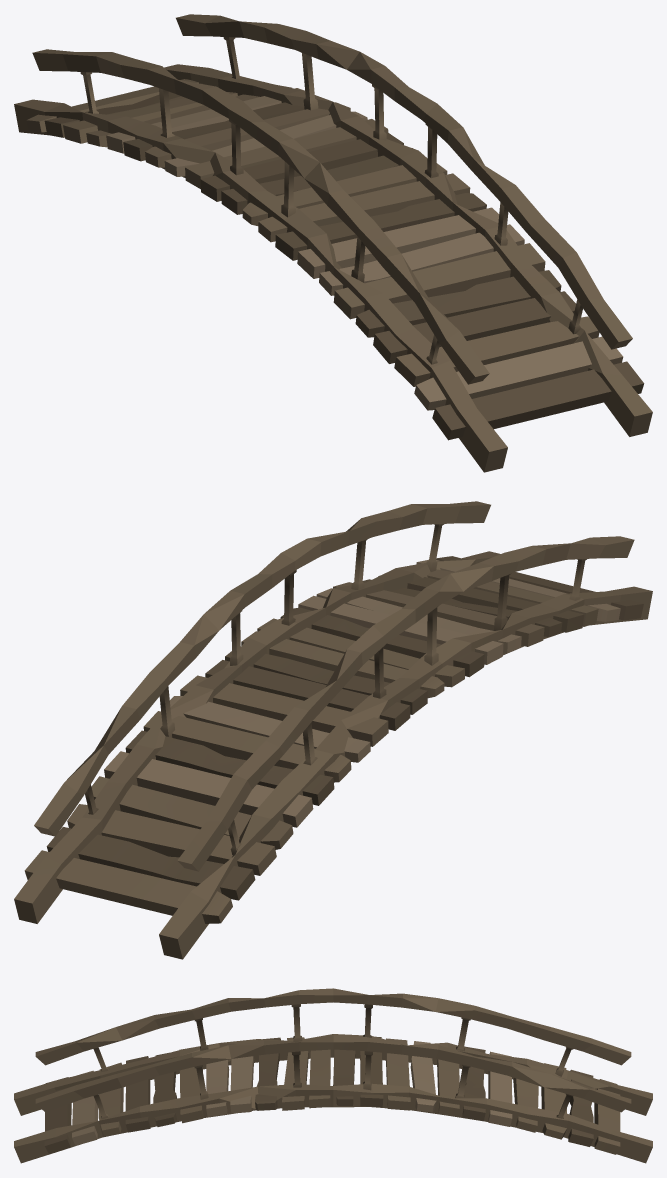
The model's file is bridge.glb.
3 renders of one model, top to bottom at view 1: azimuth 30°, elevation 25°; view 2: azimuth 150°, elevation 25°; view 3: azimuth 270°, elevation 25°, orthographic. The views are drawn at different scales.
Parts seen in each view (by area): view 1: bridge; view 2: bridge; view 3: bridge.
Part boxes in pixels (box(x1,y1,x2,y2)): bridge: box(14, 14, 652, 472); bridge: box(14, 501, 652, 959); bridge: box(14, 988, 652, 1163).
Size of what is drawn, in the model's own units: 2.1 by 1.84 by 8.79.
Materials: 1 (1 with a texture image).
